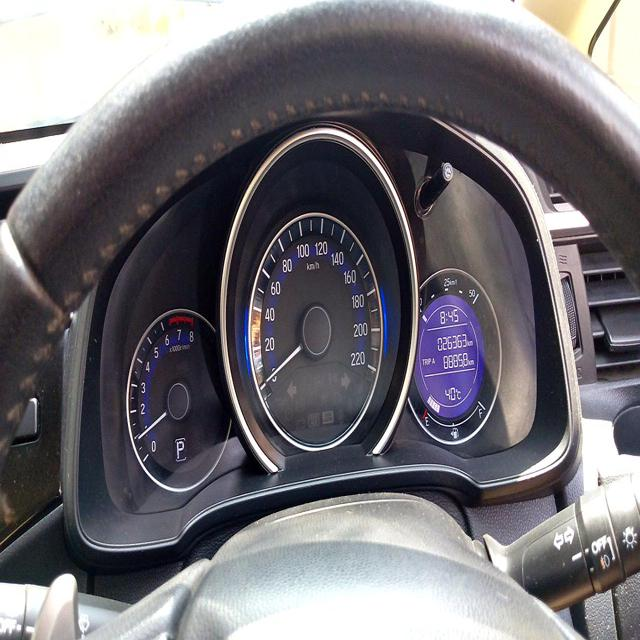odometer: (436, 331, 468, 352)
